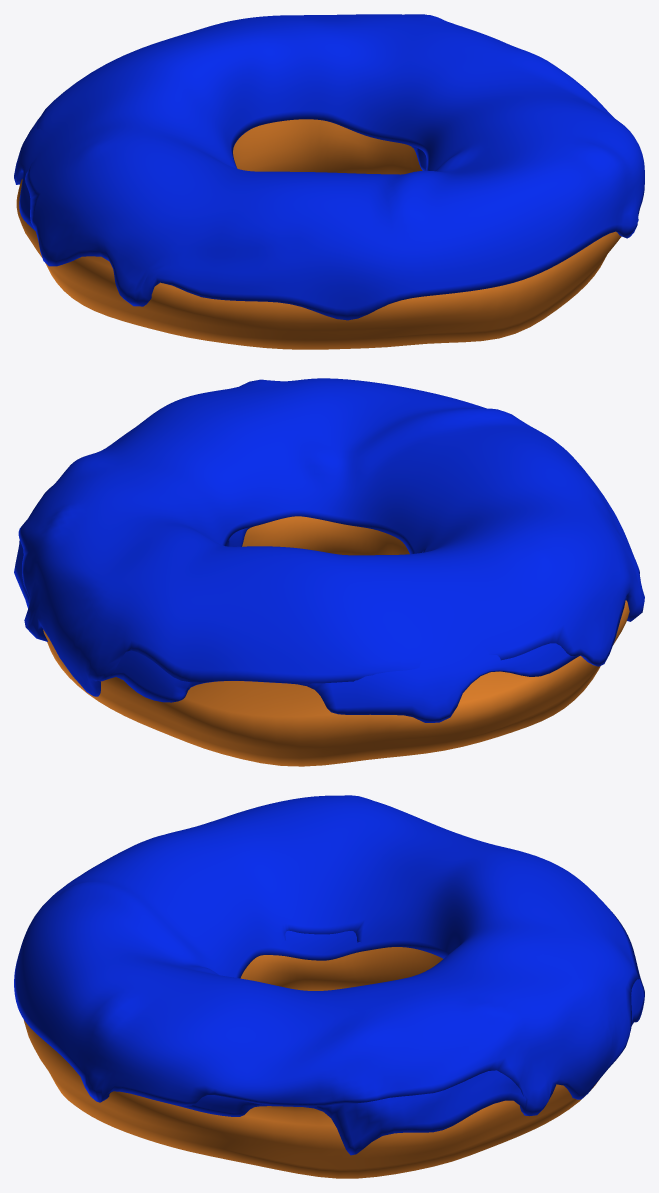
Rendered from donutblue.glb.
3 renders of one model, top to bottom at view 1: azimuth 30°, elevation 25°; view 2: azimuth 150°, elevation 25°; view 3: azimuth 270°, elevation 25°, orthographic. The views are drawn at different scales.
Visible parts, largest first — view 1: Cover, Donut; view 2: Cover, Donut; view 3: Cover, Donut.
Boxes of the visible parts, x1=… form: Cover: x1=14, y1=14, x2=644, y2=320; Donut: x1=16, y1=119, x2=621, y2=349; Cover: x1=14, y1=378, x2=644, y2=722; Donut: x1=43, y1=516, x2=629, y2=766; Cover: x1=14, y1=795, x2=644, y2=1155; Donut: x1=23, y1=947, x2=598, y2=1178.
Size of the model in its own units: 0.416 by 0.1284 by 0.4131.
